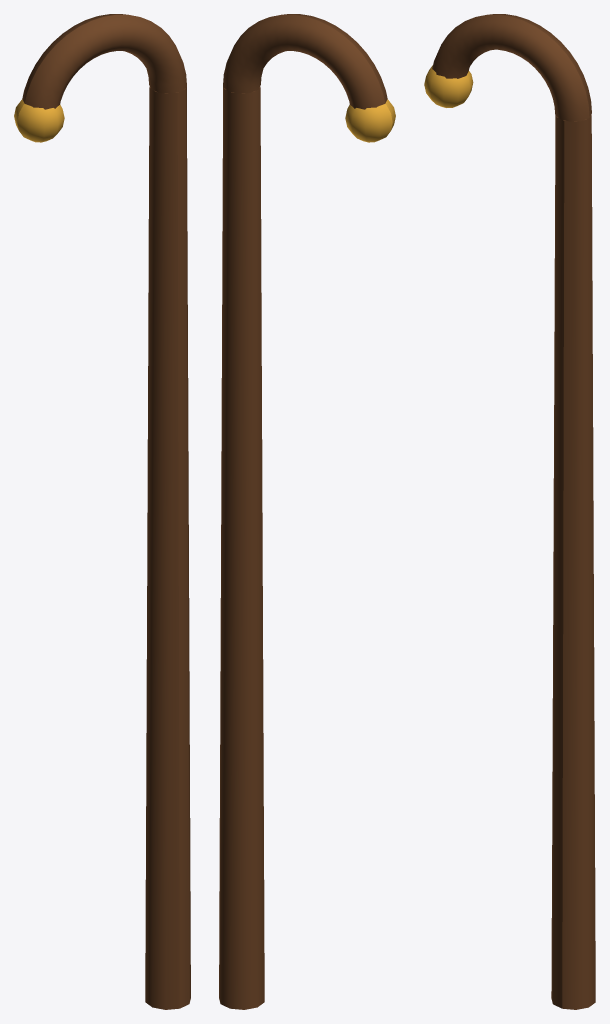
Rendered from cane.glb.
The picture shows the model from 3 angles, left to right: view 1: azimuth 30°, elevation 25°; view 2: azimuth 150°, elevation 25°; view 3: azimuth 330°, elevation 25°; orthographic projection. The views are drawn at different scales.
Parts seen in each view (by area): view 1: cane; view 2: cane; view 3: cane.
Part boxes in pixels (left/top/right/bottom): cane: left=14, top=14, right=190, bottom=1009; cane: left=219, top=14, right=395, bottom=1009; cane: left=424, top=14, right=595, bottom=1009.
Bounding box in the file's own units: 0.1849 × 1.04 × 0.0457.
